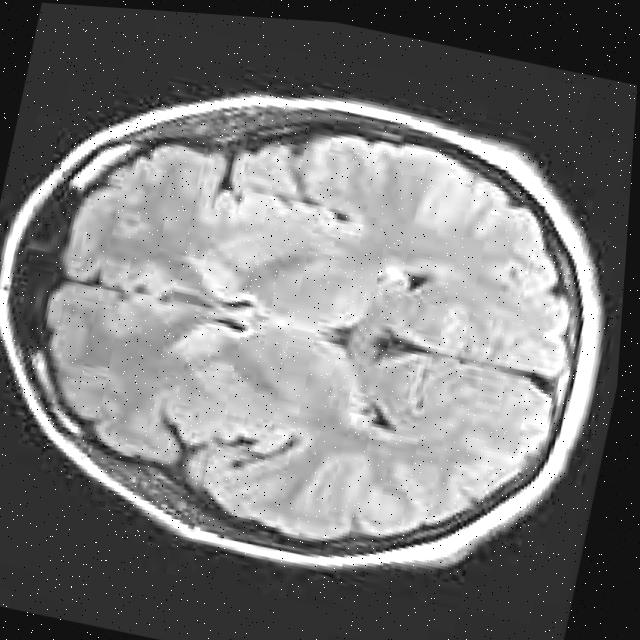NoTumor: (0, 26, 638, 625)
